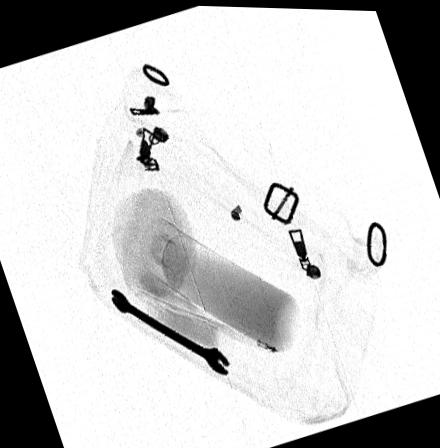Wrench: (110, 287, 228, 371)
